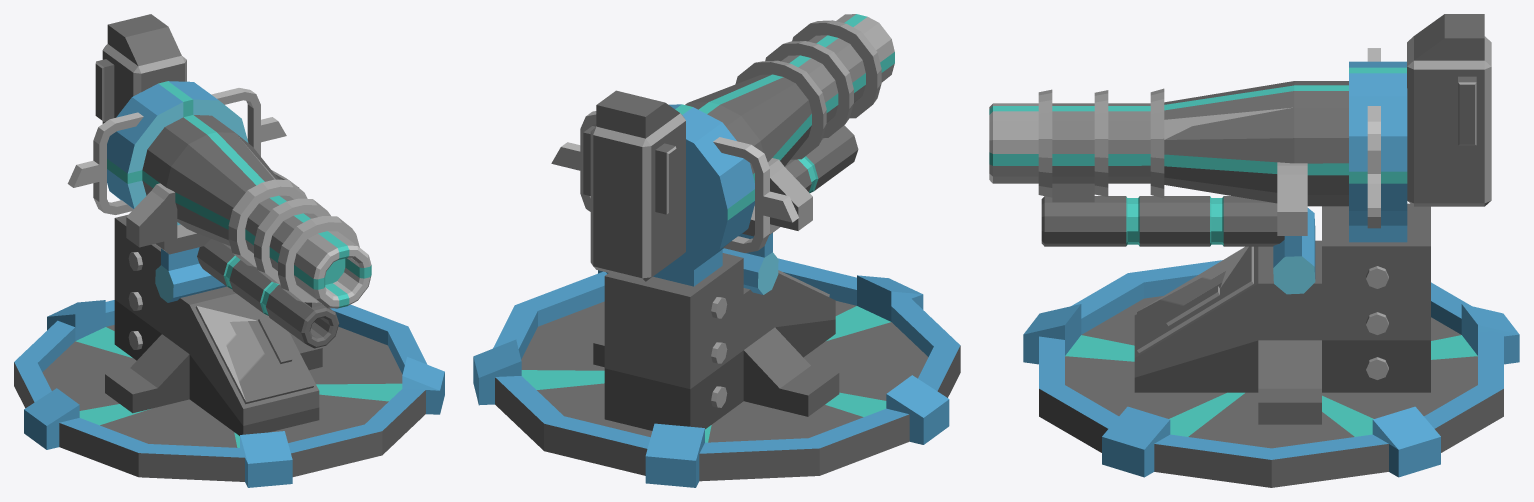
The model's file is tower_laser_blue_3.fbx.
3 views of the same model, side by side, from view 1: azimuth 30°, elevation 25°; view 2: azimuth 150°, elevation 25°; view 3: azimuth 270°, elevation 25° (orthographic). The views are drawn at different scales.
Parts seen in each view (by area): view 1: top_laser_blue_3, tower_laser_blue_3; view 2: top_laser_blue_3, tower_laser_blue_3; view 3: top_laser_blue_3, tower_laser_blue_3.
Boxes of the visible parts, x1,y1,x2,y2 form: top_laser_blue_3: [67, 14, 371, 435]; tower_laser_blue_3: [14, 300, 444, 487]; top_laser_blue_3: [551, 14, 894, 430]; tower_laser_blue_3: [473, 258, 960, 487]; top_laser_blue_3: [989, 14, 1491, 424]; tower_laser_blue_3: [1023, 260, 1519, 487].
Bounding box in the file's own units: 147 × 117 × 157.
